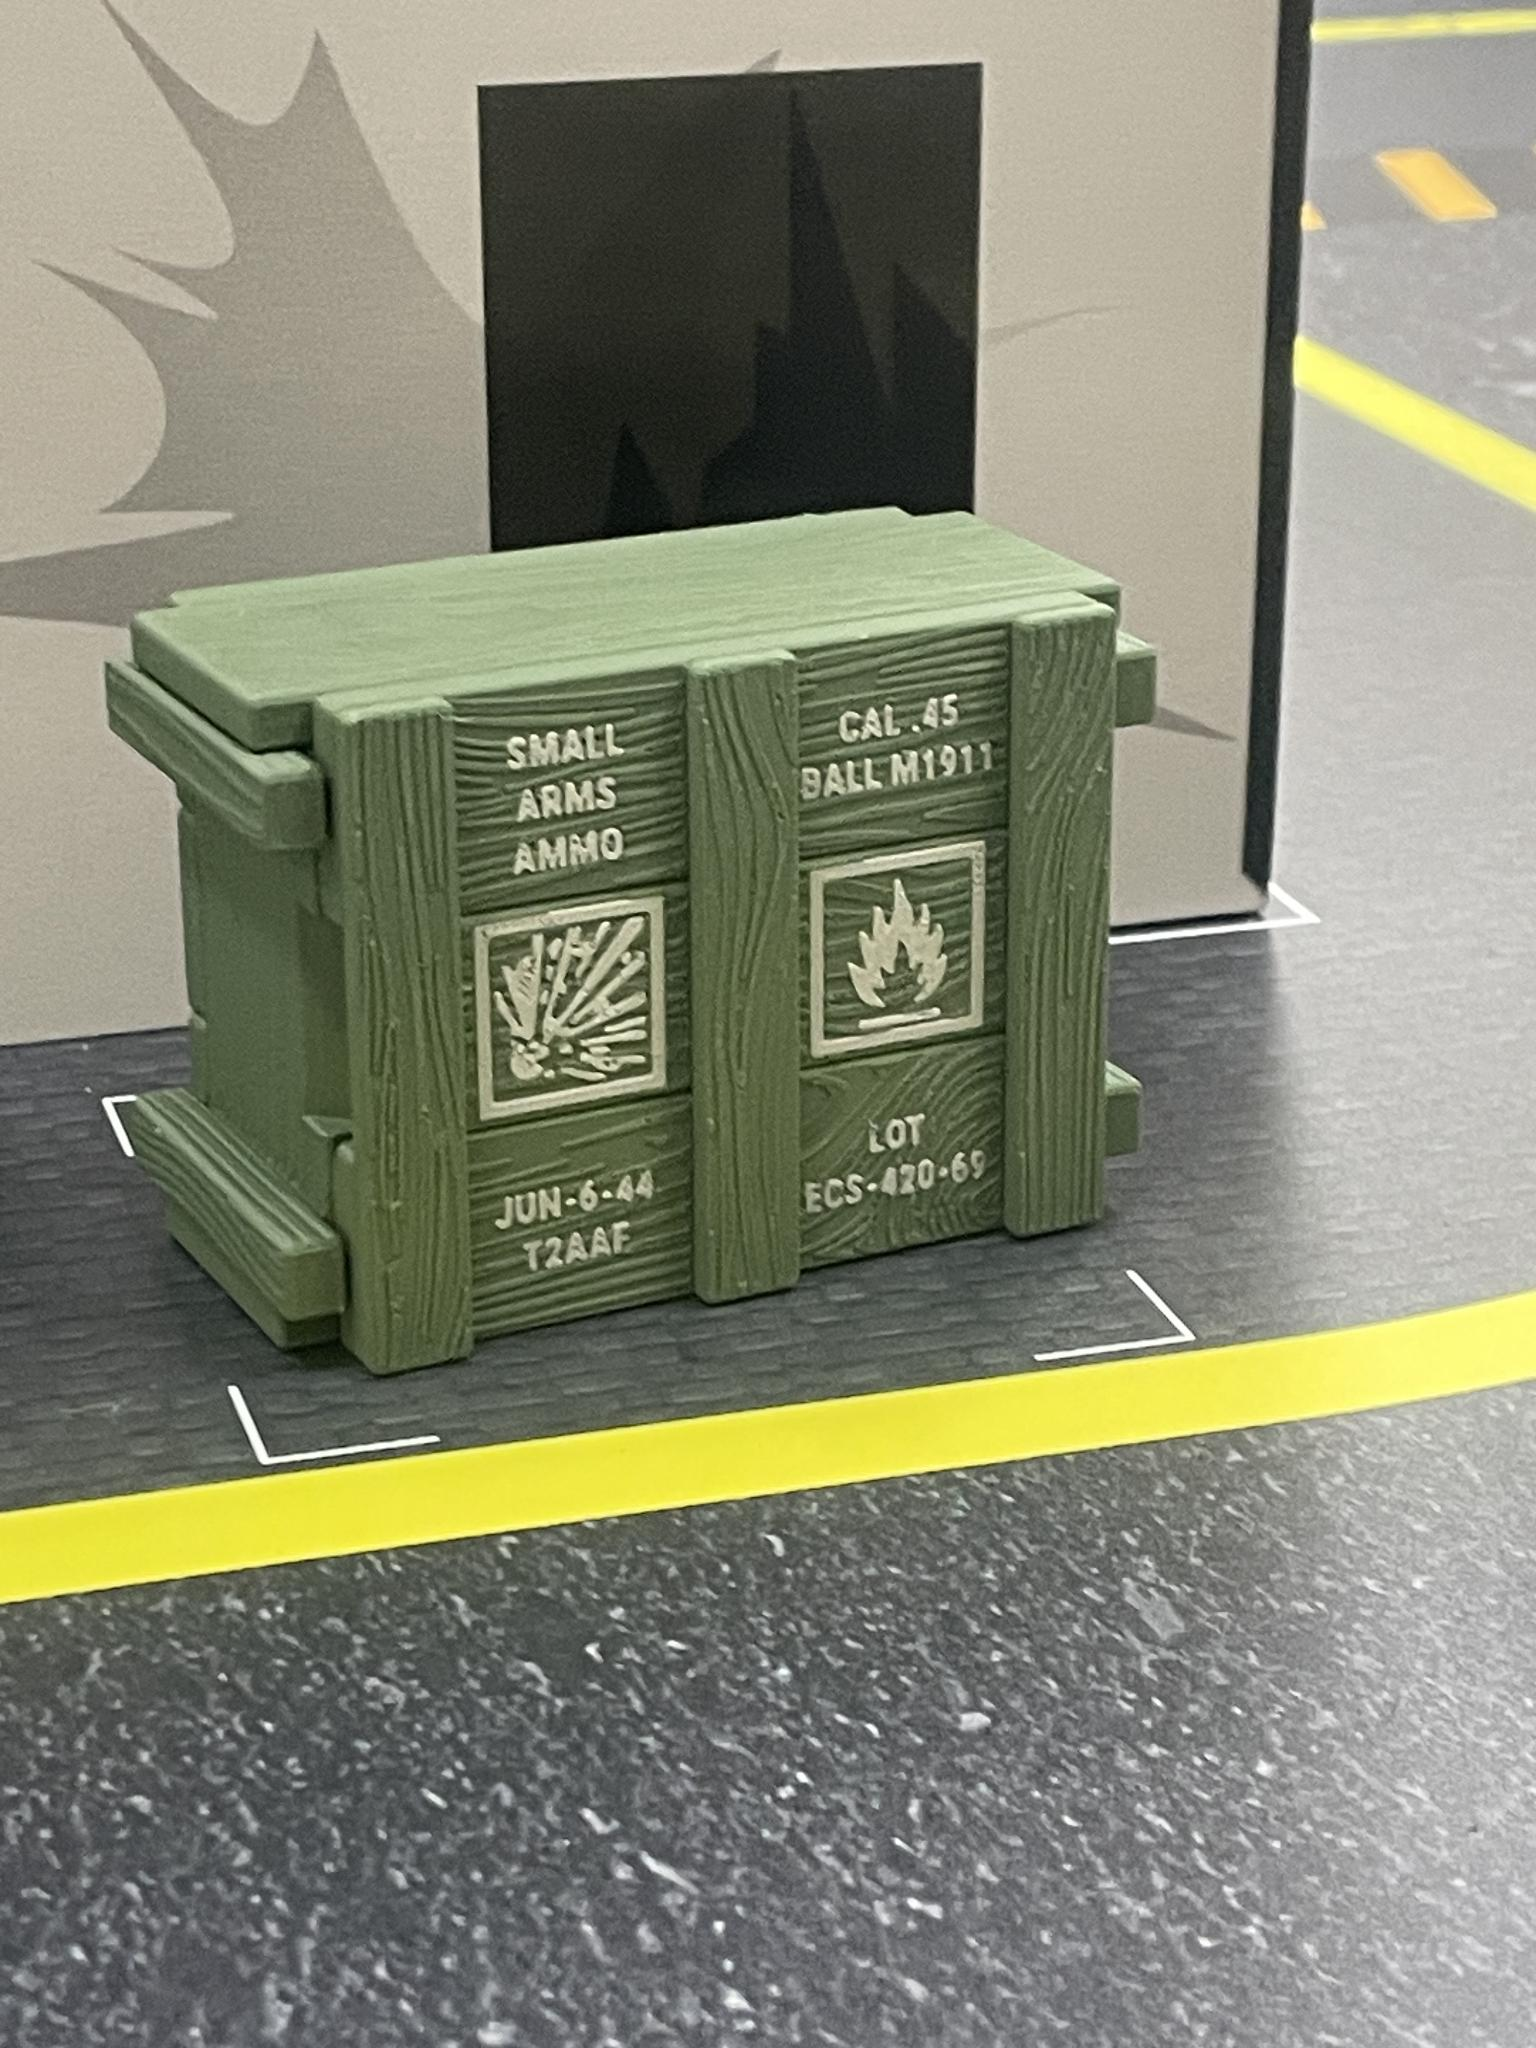Box: (89, 495, 1183, 1392)
